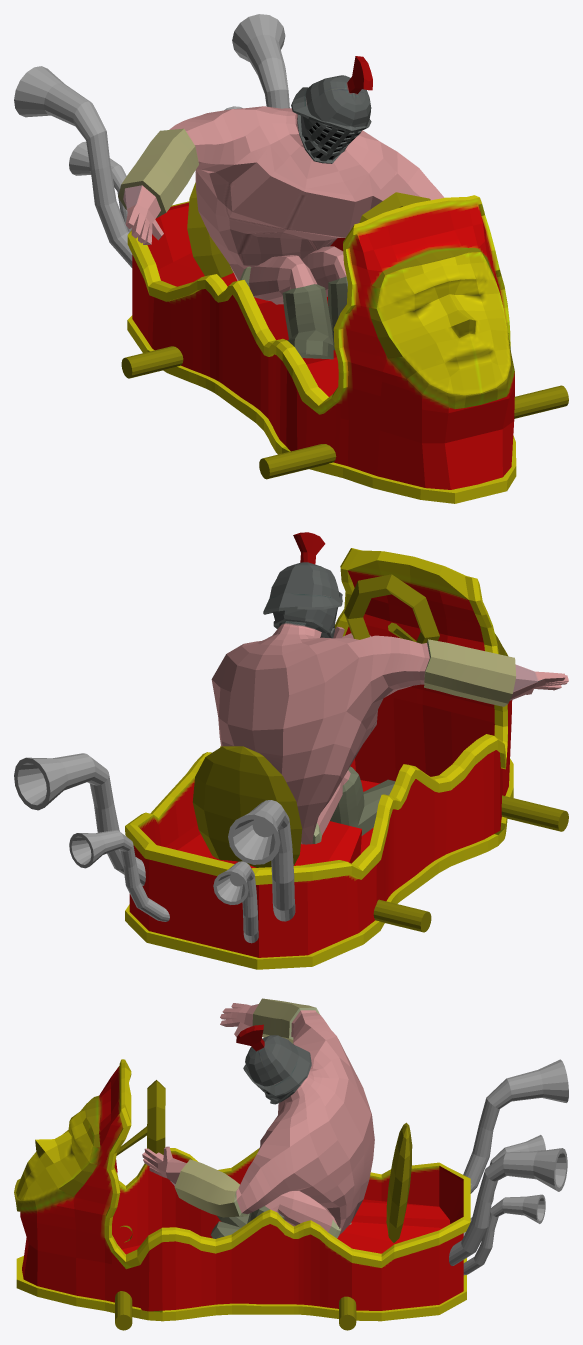
Rendered from gladiVacile_000570.obj.
The picture shows the model from 3 angles, top to bottom: view 1: azimuth 30°, elevation 25°; view 2: azimuth 150°, elevation 25°; view 3: azimuth 270°, elevation 25°; orthographic projection. The views are drawn at different scales.
Visible parts, largest first — view 1: GladiChasis_GladiChasisH, Gadiador_Gladiador_H.001, GladiTubos_GladiTubosH, GladiVolante_GladiVolanteH; view 2: GladiChasis_GladiChasisH, Gadiador_Gladiador_H.001, GladiTubos_GladiTubosH, GladiVolante_GladiVolanteH; view 3: GladiChasis_GladiChasisH, Gadiador_Gladiador_H.001, GladiTubos_GladiTubosH, GladiVolante_GladiVolanteH.
Part boxes in pixels (left/top/right/bottom): GladiChasis_GladiChasisH: left=127, top=195, right=516, bottom=503; Gadiador_Gladiador_H.001: left=118, top=56, right=444, bottom=359; GladiTubos_GladiTubosH: left=14, top=14, right=289, bottom=267; GladiVolante_GladiVolanteH: left=121, top=182, right=568, bottom=479; GladiChasis_GladiChasisH: left=125, top=548, right=513, bottom=969; Gadiador_Gladiador_H.001: left=211, top=532, right=568, bottom=844; GladiTubos_GladiTubosH: left=14, top=753, right=295, bottom=943; GladiVolante_GladiVolanteH: left=192, top=574, right=568, bottom=932; GladiChasis_GladiChasisH: left=14, top=1059, right=470, bottom=1321; Gadiador_Gladiador_H.001: left=142, top=998, right=374, bottom=1238; GladiTubos_GladiTubosH: left=449, top=1059, right=568, bottom=1275; GladiVolante_GladiVolanteH: left=115, top=1080, right=412, bottom=1330.
Bounding box in the file's own units: 6.74 × 5.65 × 10.78.
